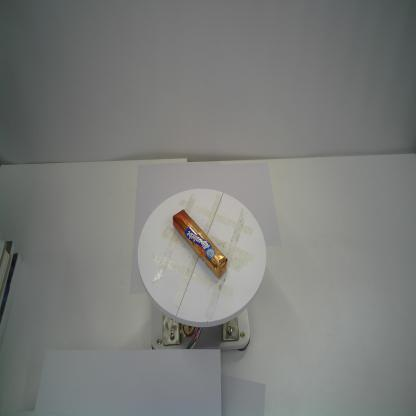Candy: (172, 209, 228, 278)
